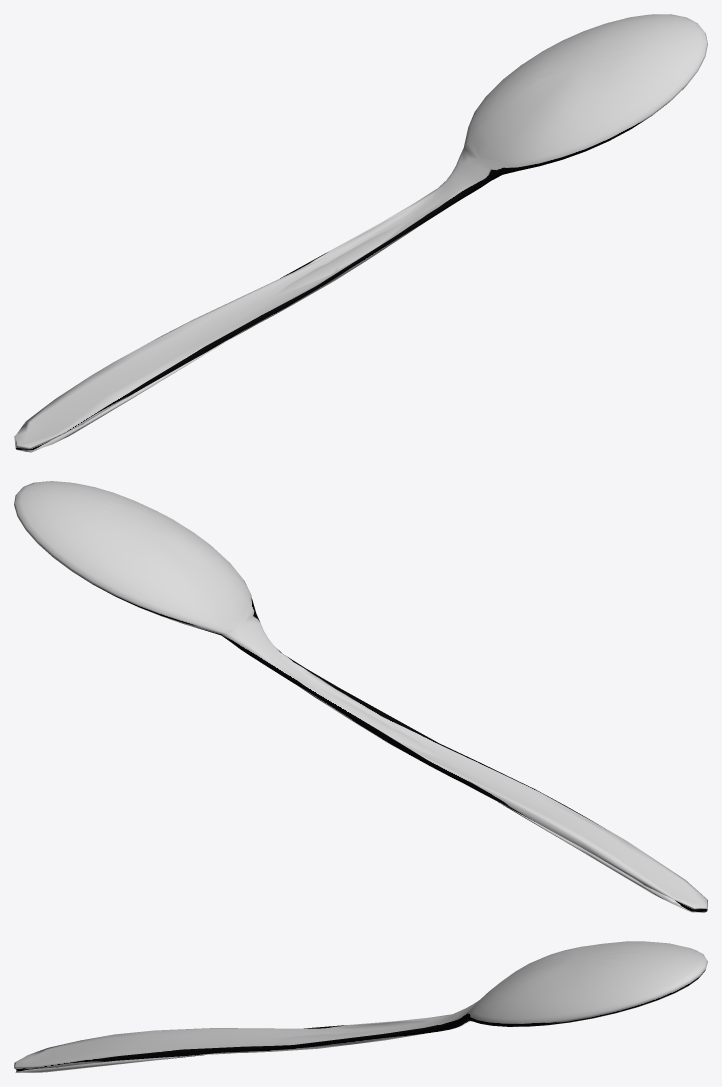
File: TeaGlassSpoon.fbx
The picture shows the model from 3 angles, top to bottom: view 1: azimuth 30°, elevation 25°; view 2: azimuth 150°, elevation 25°; view 3: azimuth 330°, elevation 25°; orthographic projection.
Visible parts, largest first — view 1: Turkish Tea.002; view 2: Turkish Tea.002; view 3: Turkish Tea.002.
Part boxes in pixels (x1,y1,x2,y2): Turkish Tea.002: (14, 14, 707, 452); Turkish Tea.002: (14, 481, 707, 912); Turkish Tea.002: (14, 941, 707, 1072).
Bounding box in the file's own units: 39.93 × 14.72 × 8.89.
Materials: 1 (1 with a texture image).
